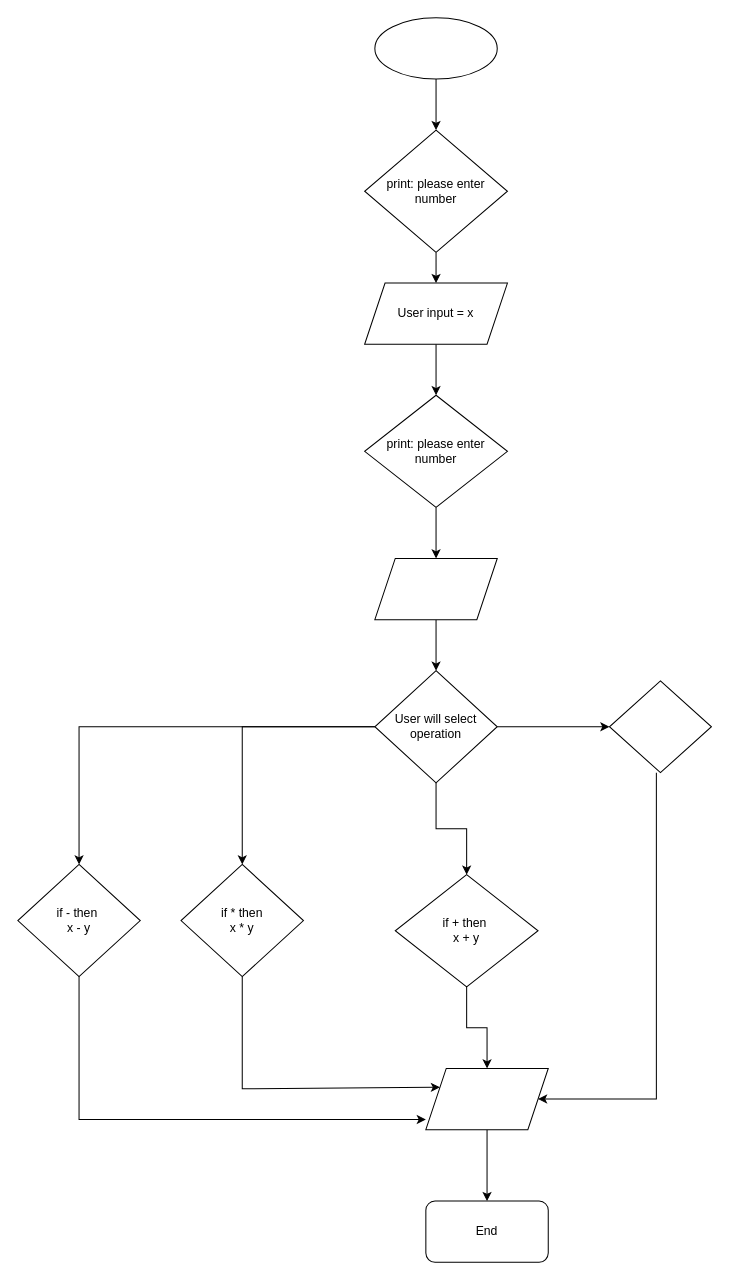
The diagram is 729 pixels wide and 1280 high, and some of its shapes have lost their labels. The shapes that lost their labels are listed below. From the top down, each one's centre as x and y in pixels, then its label:
At [435,48]: "Start".
At [435,588]: "User input = y".
At [659,726]: "if / then x / y".
At [486,1098]: "Output".
